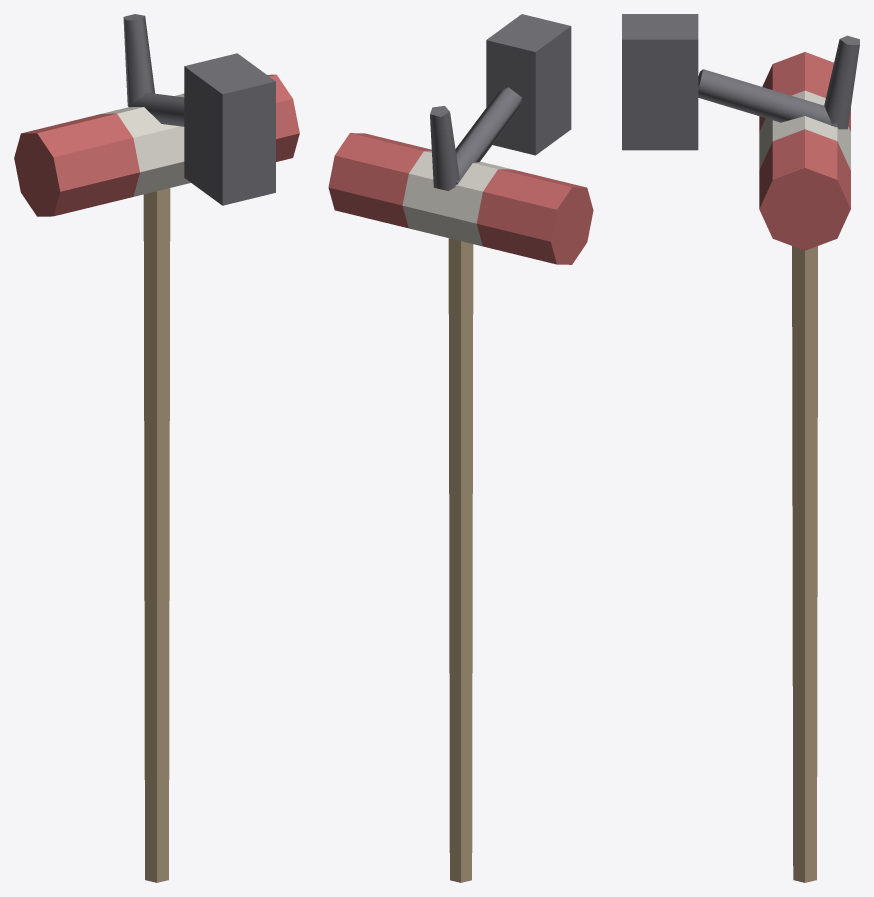
Rendered from mallet_hook.glb.
3 renders of one model, left to right at view 1: azimuth 30°, elevation 25°; view 2: azimuth 150°, elevation 25°; view 3: azimuth 270°, elevation 25°, orthographic. The views are drawn at different scales.
Visible parts, largest first — view 1: Mallet_hook; view 2: Mallet_hook; view 3: Mallet_hook.
Boxes of the visible parts, bbox=[...] form: Mallet_hook: bbox=[14, 14, 299, 882]; Mallet_hook: bbox=[328, 14, 593, 882]; Mallet_hook: bbox=[622, 14, 859, 882].
Bounding box in the file's own units: 0.36 × 1.23 × 0.312.
